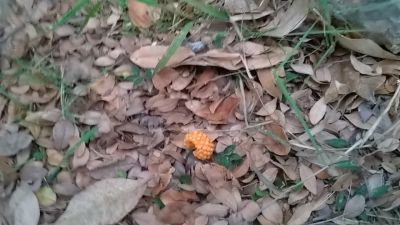eggs: (184, 129, 215, 161)
